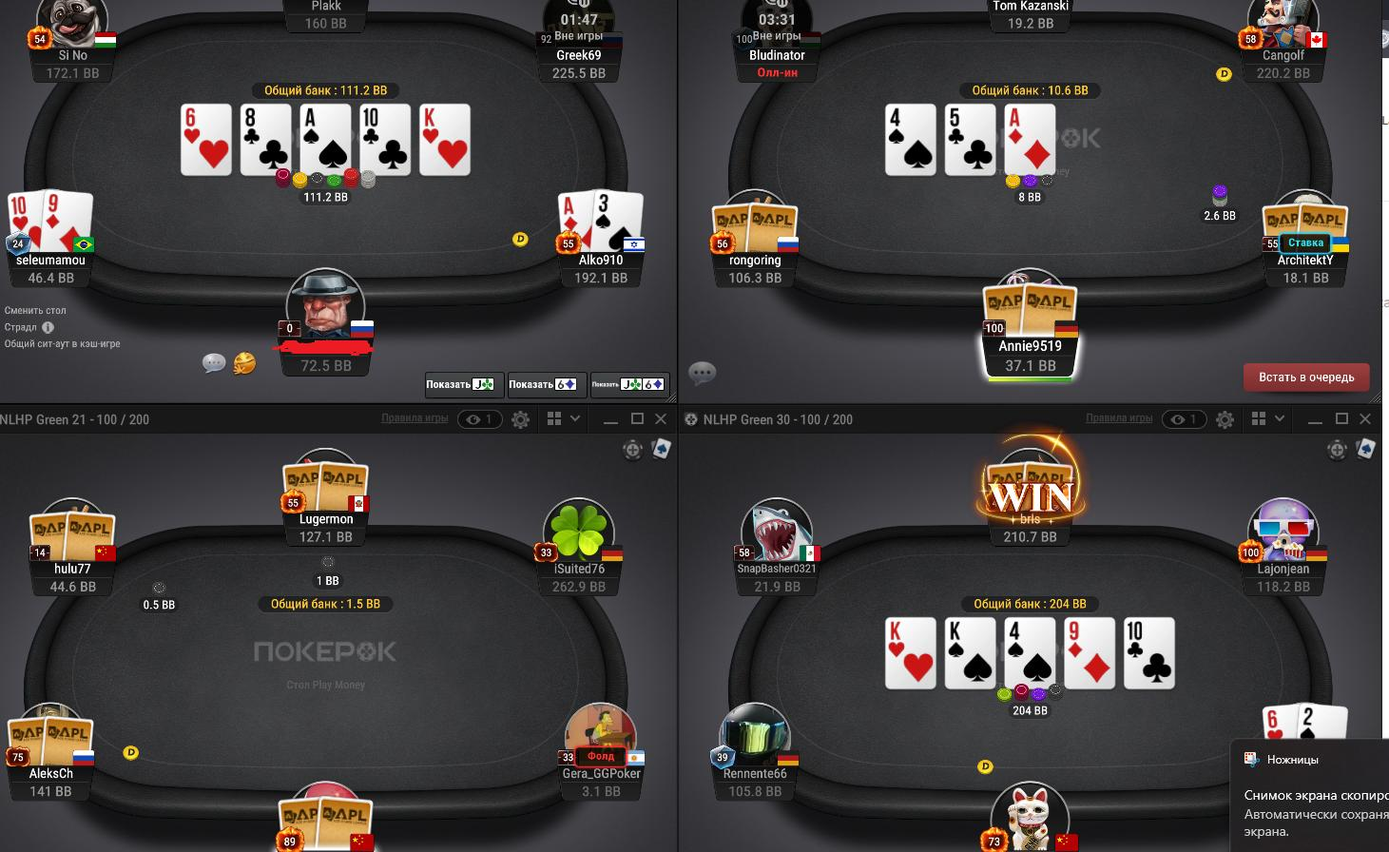10c: (1123, 618, 1175, 689), (361, 103, 406, 171)
10h: (5, 190, 45, 253)
2s: (1299, 704, 1349, 743)
3s: (593, 183, 645, 251)
4s: (1004, 617, 1058, 689), (884, 105, 938, 175)
5c: (945, 103, 997, 175)
6h: (182, 103, 234, 175), (1260, 704, 1298, 741)
8c: (242, 103, 294, 175)
9d: (1065, 617, 1114, 688), (42, 188, 95, 251)
Ad: (1007, 103, 1054, 175), (555, 190, 597, 252)
As: (301, 103, 351, 171)
Kh: (884, 618, 939, 689), (420, 105, 469, 176)
Ks: (946, 619, 992, 689)
